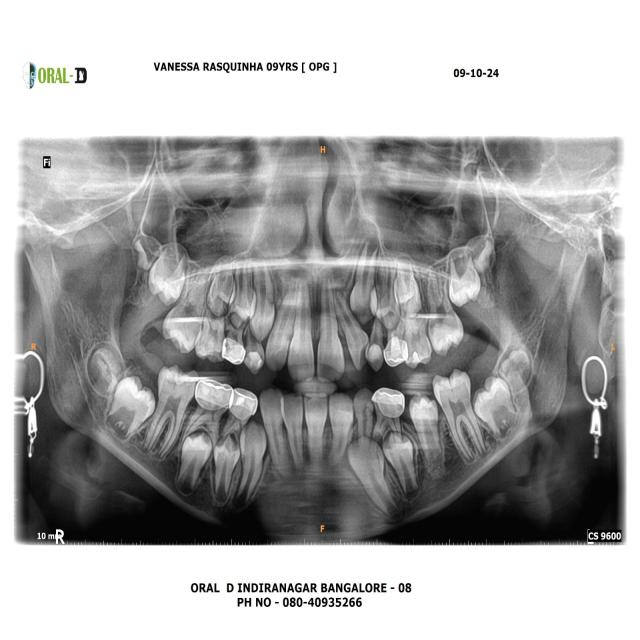Premolars: (408, 396, 448, 464), (372, 386, 406, 443)
